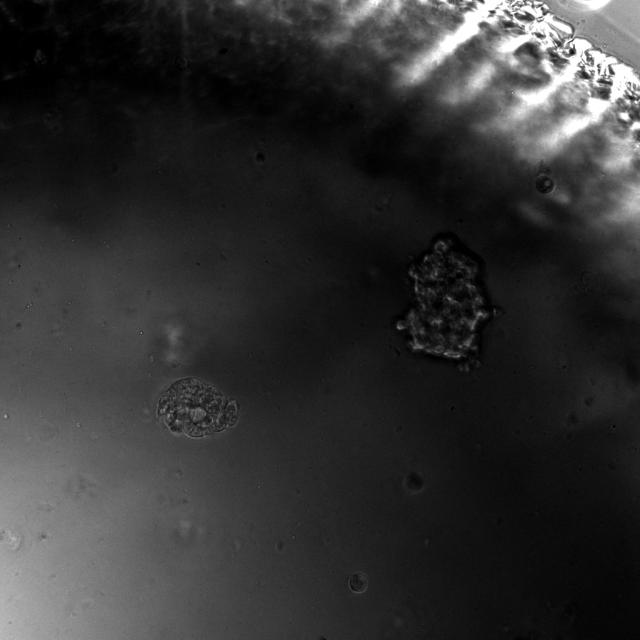organoid: (397, 234, 494, 369), (157, 378, 238, 438), (402, 471, 424, 493), (349, 572, 368, 593), (536, 174, 555, 194)
